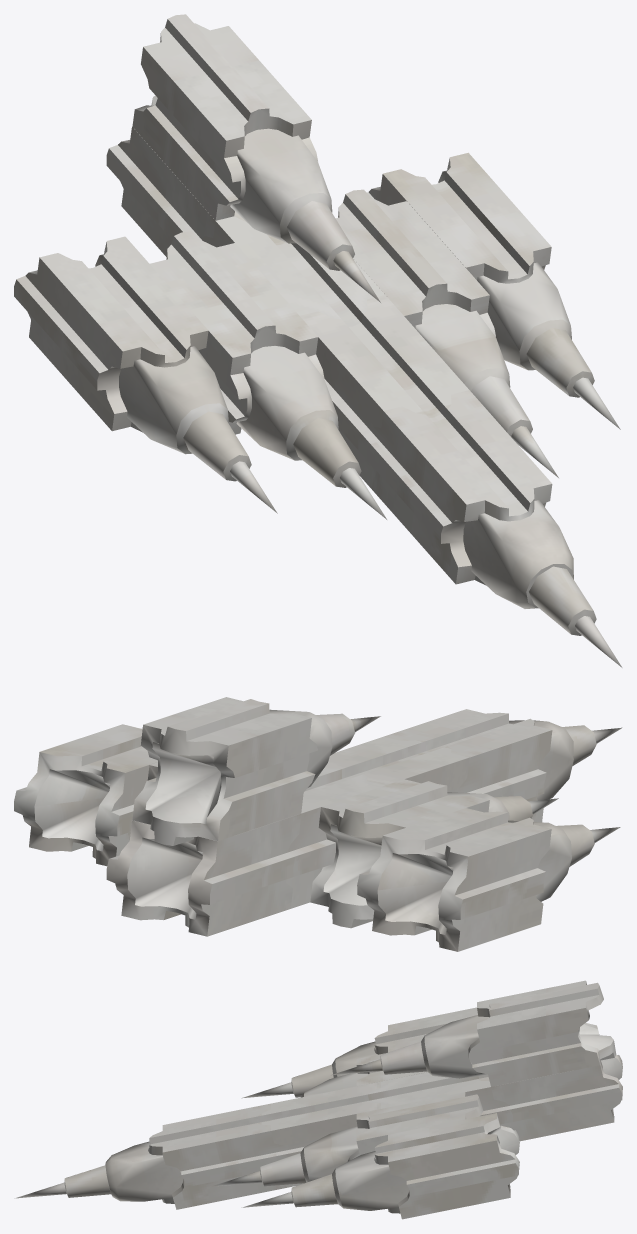
File: ref_gtplanepen.fbx
The picture shows the model from 3 angles, top to bottom: view 1: azimuth 30°, elevation 25°; view 2: azimuth 150°, elevation 25°; view 3: azimuth 270°, elevation 25°; orthographic projection. The views are drawn at different scales.
Visible parts, largest first — view 1: ref_gtplanepen; view 2: ref_gtplanepen; view 3: ref_gtplanepen.
Boxes of the visible parts, bbox=[...] form: ref_gtplanepen: bbox=[14, 14, 622, 667]; ref_gtplanepen: bbox=[14, 697, 622, 951]; ref_gtplanepen: bbox=[14, 980, 622, 1219].
Size of the model in its own units: 55.4 by 38.69 by 100.
